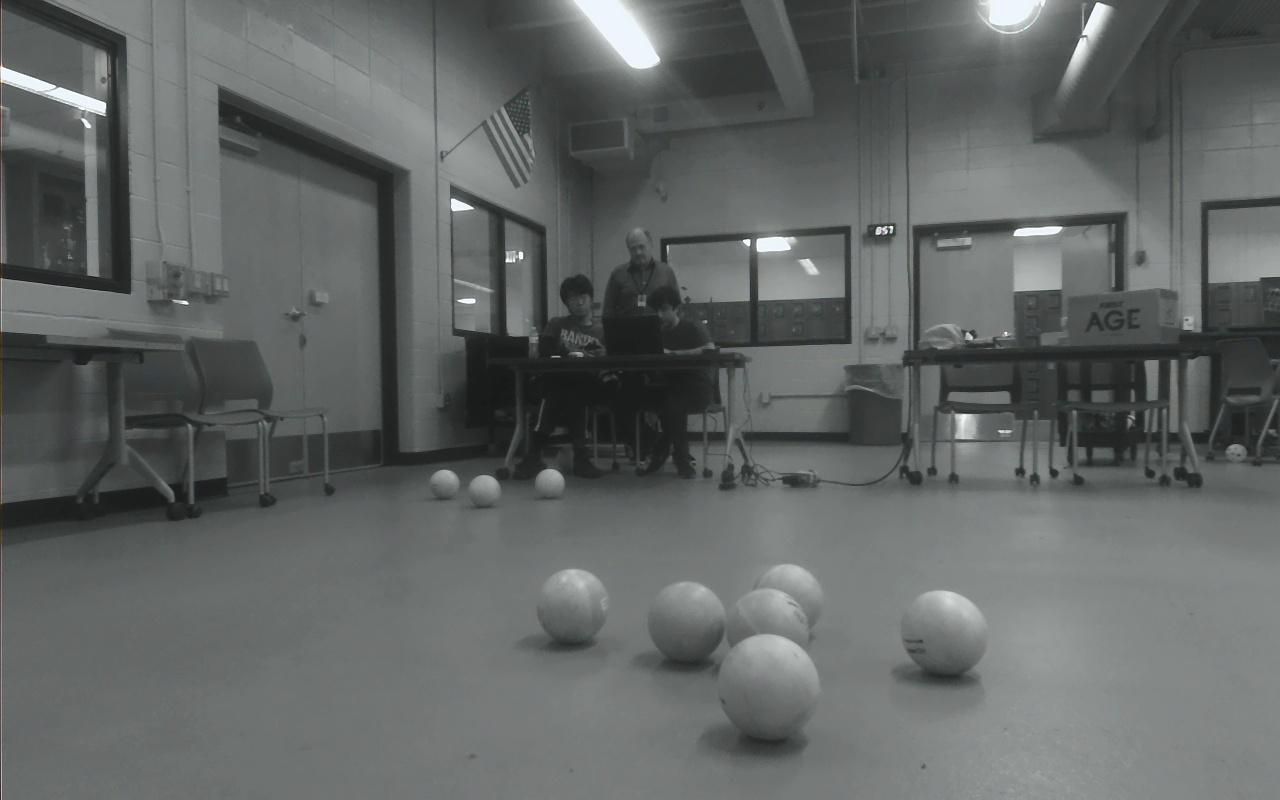Fuel: (717, 633, 822, 742), (900, 590, 989, 676), (726, 586, 809, 669), (646, 580, 727, 663), (535, 568, 609, 645), (753, 563, 824, 636), (467, 474, 502, 508), (534, 468, 566, 499), (428, 469, 460, 500)
